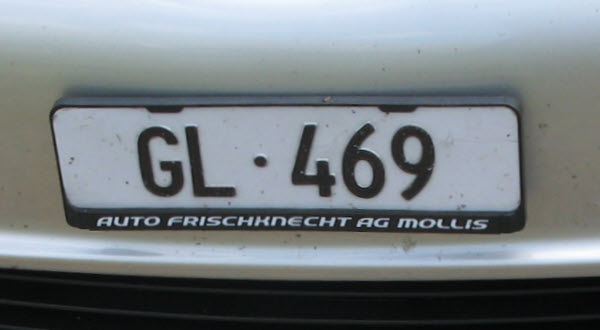license_plate: (50, 97, 526, 221)
